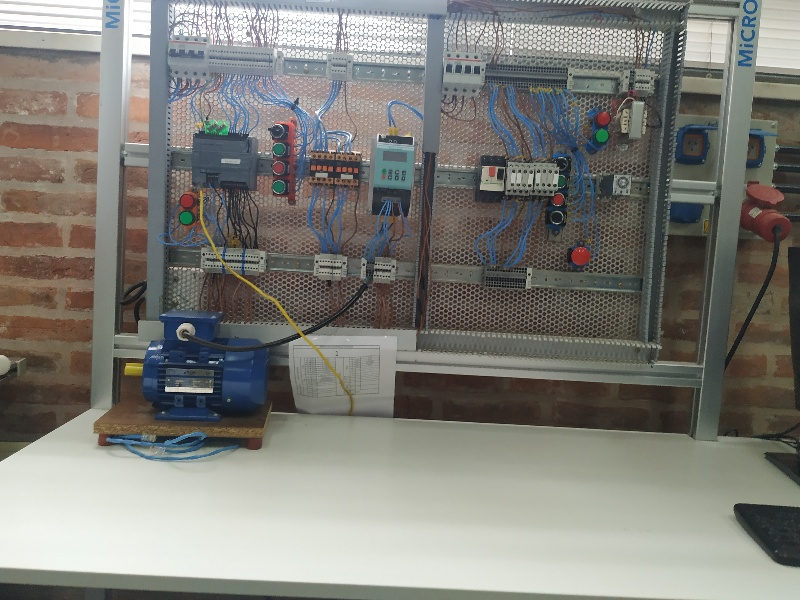Tablero 1: (154, 1, 667, 366)
